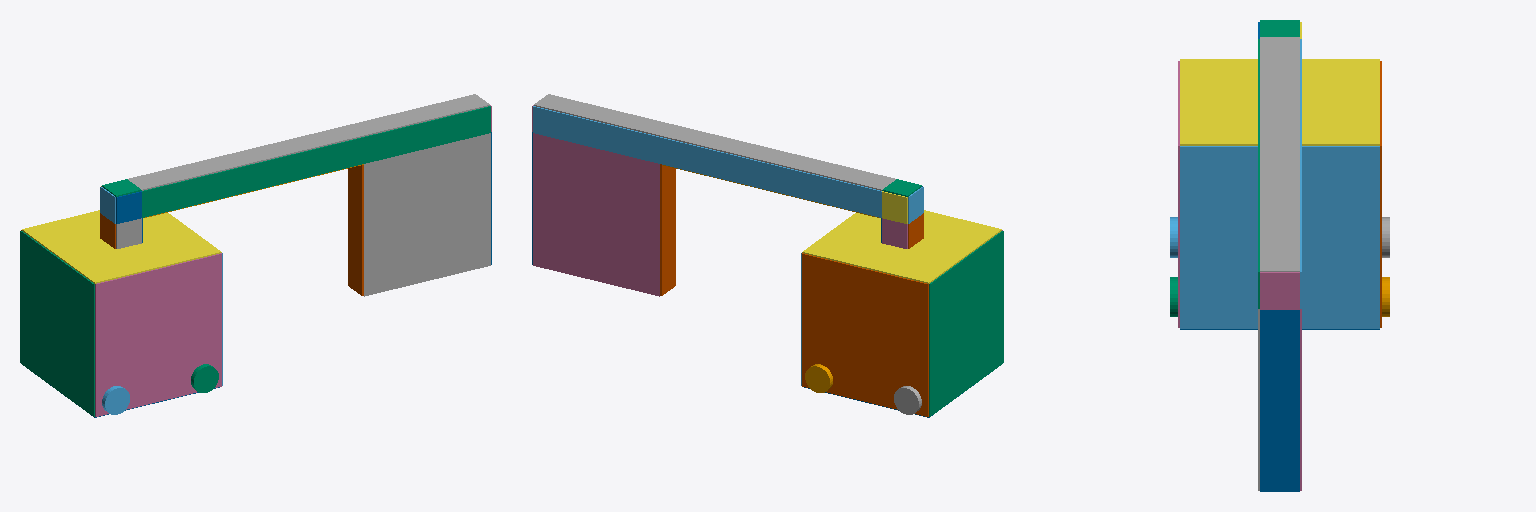
--- Render facts (derived) ---
The picture shows the robot from 3 angles, left to right: view 1: azimuth 30°, elevation 25°; view 2: azimuth 150°, elevation 25°; view 3: azimuth 270°, elevation 25°; orthographic projection.
Robot: robot — 54 links, 53 joints (2 continuous, 51 fixed); root link body; default pose: all joints at 0.
Visible links, largest first — view 1: hand_sensor_0_right, body_sensor_0_right, body_sensor_0_stop, arm_sensor_0_right, body_sensor_0_top, arm_sensor_0_top, hand_sensor_0_stop, joint_2_sensor_0_right, joint_1_sensor_0_right, back_right_wheel, from_right_wheel; view 2: hand_sensor_0_left, body_sensor_0_left, body_sensor_0_stop, arm_sensor_0_left, body_sensor_0_top, arm_sensor_0_top, hand_sensor_0_stop, joint_2_sensor_0_left, joint_1_sensor_0_left, back_left_wheel, from_left_wheel; view 3: body_sensor_0_start, body_sensor_0_top, arm_sensor_0_top, hand_sensor_0_start, arm_sensor_0_start, joint_2_sensor_0_top, arm_sensor_0_left, arm_sensor_0_right, body_sensor_0_left, body_sensor_0_right.
Link boxes in pixels (left/top/right/bottom): hand_sensor_0_right: left=364, top=133, right=490, bottom=296; body_sensor_0_right: left=95, top=253, right=221, bottom=416; body_sensor_0_stop: left=20, top=231, right=94, bottom=416; arm_sensor_0_right: left=142, top=106, right=490, bottom=217; body_sensor_0_top: left=22, top=210, right=221, bottom=283; arm_sensor_0_top: left=128, top=94, right=489, bottom=190; hand_sensor_0_stop: left=348, top=165, right=363, bottom=295; joint_2_sensor_0_right: left=116, top=191, right=141, bottom=223; joint_1_sensor_0_right: left=116, top=218, right=141, bottom=248; back_right_wheel: left=102, top=386, right=129, bottom=414; from_right_wheel: left=191, top=364, right=218, bottom=392; hand_sensor_0_left: left=533, top=133, right=659, bottom=296; body_sensor_0_left: left=802, top=253, right=928, bottom=416; body_sensor_0_stop: left=929, top=231, right=1003, bottom=416; arm_sensor_0_left: left=533, top=106, right=881, bottom=217; body_sensor_0_top: left=802, top=210, right=1001, bottom=283; arm_sensor_0_top: left=534, top=94, right=895, bottom=190; hand_sensor_0_stop: left=660, top=164, right=675, bottom=295; joint_2_sensor_0_left: left=882, top=191, right=907, bottom=223; joint_1_sensor_0_left: left=882, top=218, right=907, bottom=248; back_left_wheel: left=894, top=386, right=921, bottom=414; from_left_wheel: left=805, top=364, right=832, bottom=392; body_sensor_0_start: left=1180, top=146, right=1379, bottom=328; body_sensor_0_top: left=1180, top=59, right=1379, bottom=145; arm_sensor_0_top: left=1260, top=37, right=1299, bottom=271; hand_sensor_0_start: left=1260, top=310, right=1299, bottom=491; arm_sensor_0_start: left=1260, top=272, right=1299, bottom=309; joint_2_sensor_0_top: left=1260, top=20, right=1299, bottom=36; arm_sensor_0_left: left=1300, top=39, right=1301, bottom=308; arm_sensor_0_right: left=1258, top=39, right=1259, bottom=308; body_sensor_0_left: left=1380, top=61, right=1381, bottom=327; body_sensor_0_right: left=1178, top=61, right=1179, bottom=327.
Bounding box of the posed robot: 3.37 × 1.1 × 1.42 m (x, y, z).
Geometry: primitives only (box / cylinder / sphere), no mesh files.

URDF robot description (robot):
<?xml version="1.0"?>
    <robot name="robot">


    <!-- body -->
    <link name="body">
        <inertial>
            <origin xyz="0 0 0" rpy="0 0 0"/>
            <mass value="100"/>
            <inertia ixx="15" ixy="0" ixz="0" iyy="15" iyz="0" izz="15"/>
        </inertial>
        <visual>
            <origin xyz="0 0 0" rpy="0 0 0"/>
            <geometry>
                <box size="1 1 1"/>
            </geometry>
        </visual>
        <collision>
            <origin xyz="0 0 0" rpy="0 0 0"/>
            <geometry>
                <box size="1 1 1"/>
            </geometry>
        </collision>
    </link>


    <!-- body_sensor_0_start -->
    <link name="body_sensor_0_start">
        <inertial>
            <origin xyz="0 0 0" rpy="0 0 0"/>
            <mass value="0"/>
            <inertia ixx="0" ixy="0" ixz="0" iyy="0" iyz="0" izz="0"/>
        </inertial>
        <visual>
            <origin xyz="0 0 0" rpy="0 0 0"/>
            <geometry>
                <box size="0.02 1 1"/>
            </geometry>
        </visual>
        <collision>
            <origin xyz="0 0 0" rpy="0 0 0"/>
            <geometry>
                <box size="0.02 1 1"/>
            </geometry>
        </collision>
    </link>
    <!-- Joint: body, body_sensor_0_start -->
    <joint name="body_body_sensor_0_start_joint" type="fixed">
        <parent link="body"/>
        <child link="body_sensor_0_start"/>
        <origin xyz="0.5 0 0"
                rpy="0 0 0"/>
        <axis xyz="0 0 1"/>
        
    </joint>


    <!-- body_sensor_0_stop -->
    <link name="body_sensor_0_stop">
        <inertial>
            <origin xyz="0 0 0" rpy="0 0 0"/>
            <mass value="0"/>
            <inertia ixx="0" ixy="0" ixz="0" iyy="0" iyz="0" izz="0"/>
        </inertial>
        <visual>
            <origin xyz="0 0 0" rpy="0 0 0"/>
            <geometry>
                <box size="0.02 1 1"/>
            </geometry>
        </visual>
        <collision>
            <origin xyz="0 0 0" rpy="0 0 0"/>
            <geometry>
                <box size="0.02 1 1"/>
            </geometry>
        </collision>
    </link>
    <!-- Joint: body, body_sensor_0_stop -->
    <joint name="body_body_sensor_0_stop_joint" type="fixed">
        <parent link="body"/>
        <child link="body_sensor_0_stop"/>
        <origin xyz="-0.5 0 0"
                rpy="0 0 0"/>
        <axis xyz="0 0 1"/>
        
    </joint>


    <!-- body_sensor_0_top -->
    <link name="body_sensor_0_top">
        <inertial>
            <origin xyz="0 0 0" rpy="0 0 0"/>
            <mass value="0"/>
            <inertia ixx="0" ixy="0" ixz="0" iyy="0" iyz="0" izz="0"/>
        </inertial>
        <visual>
            <origin xyz="0 0 0" rpy="0 0 0"/>
            <geometry>
                <box size="1.0 1 0.02"/>
            </geometry>
        </visual>
        <collision>
            <origin xyz="0 0 0" rpy="0 0 0"/>
            <geometry>
                <box size="1.0 1 0.02"/>
            </geometry>
        </collision>
    </link>
    <!-- Joint: body, body_sensor_0_top -->
    <joint name="body_body_sensor_0_top_joint" type="fixed">
        <parent link="body"/>
        <child link="body_sensor_0_top"/>
        <origin xyz="0 0 0.5"
                rpy="0 0 0"/>
        <axis xyz="0 0 1"/>
        
    </joint>


    <!-- body_sensor_0_bottom -->
    <link name="body_sensor_0_bottom">
        <inertial>
            <origin xyz="0 0 0" rpy="0 0 0"/>
            <mass value="0"/>
            <inertia ixx="0" ixy="0" ixz="0" iyy="0" iyz="0" izz="0"/>
        </inertial>
        <visual>
            <origin xyz="0 0 0" rpy="0 0 0"/>
            <geometry>
                <box size="1.0 1 0.02"/>
            </geometry>
        </visual>
        <collision>
            <origin xyz="0 0 0" rpy="0 0 0"/>
            <geometry>
                <box size="1.0 1 0.02"/>
            </geometry>
        </collision>
    </link>
    <!-- Joint: body, body_sensor_0_bottom -->
    <joint name="body_body_sensor_0_bottom_joint" type="fixed">
        <parent link="body"/>
        <child link="body_sensor_0_bottom"/>
        <origin xyz="0 0 -0.5"
                rpy="0 0 0"/>
        <axis xyz="0 0 1"/>
        
    </joint>


    <!-- body_sensor_0_left -->
    <link name="body_sensor_0_left">
        <inertial>
            <origin xyz="0 0 0" rpy="0 0 0"/>
            <mass value="0"/>
            <inertia ixx="0" ixy="0" ixz="0" iyy="0" iyz="0" izz="0"/>
        </inertial>
        <visual>
            <origin xyz="0 0 0" rpy="0 0 0"/>
            <geometry>
                <box size="1.0 0.02 1"/>
            </geometry>
        </visual>
        <collision>
            <origin xyz="0 0 0" rpy="0 0 0"/>
            <geometry>
                <box size="1.0 0.02 1"/>
            </geometry>
        </collision>
    </link>
    <!-- Joint: body, body_sensor_0_left -->
    <joint name="body_body_sensor_0_left_joint" type="fixed">
        <parent link="body"/>
        <child link="body_sensor_0_left"/>
        <origin xyz="0 0.5 0"
                rpy="0 0 0"/>
        <axis xyz="0 0 1"/>
        
    </joint>


    <!-- body_sensor_0_right -->
    <link name="body_sensor_0_right">
        <inertial>
            <origin xyz="0 0 0" rpy="0 0 0"/>
            <mass value="0"/>
            <inertia ixx="0" ixy="0" ixz="0" iyy="0" iyz="0" izz="0"/>
        </inertial>
        <visual>
            <origin xyz="0 0 0" rpy="0 0 0"/>
            <geometry>
                <box size="1.0 0.02 1"/>
            </geometry>
        </visual>
        <collision>
            <origin xyz="0 0 0" rpy="0 0 0"/>
            <geometry>
                <box size="1.0 0.02 1"/>
            </geometry>
        </collision>
    </link>
    <!-- Joint: body, body_sensor_0_right -->
    <joint name="body_body_sensor_0_right_joint" type="fixed">
        <parent link="body"/>
        <child link="body_sensor_0_right"/>
        <origin xyz="0 -0.5 0"
                rpy="0 0 0"/>
        <axis xyz="0 0 1"/>
        
    </joint>


    <!-- back_left_wheel -->
    <link name="back_left_wheel">
        <inertial>
            <origin xyz="0 0 0" rpy="0 0 0"/>
            <mass value="0.1"/>
            <inertia ixx="0.0005" ixy="0" ixz="0" iyy="0.0005" iyz="0" izz="0.0005"/>
        </inertial>
        <visual>
            <origin xyz="0 0 0" rpy="0 0 0"/>
            <geometry>
                <cylinder radius="0.1" length="0.1"/>
            </geometry>
        </visual>
        <collision>
            <origin xyz="0 0 0" rpy="0 0 0"/>
            <geometry>
                <cylinder radius="0.1" length="0.1"/>
            </geometry>
        </collision>
    </link>
    <!-- Joint: body, back_left_wheel -->
    <joint name="body_back_left_wheel_joint" type="fixed">
        <parent link="body"/>
        <child link="back_left_wheel"/>
        <origin xyz="-0.35 0.5 -0.4"
                rpy="1.5708 0 0"/>
        <axis xyz="1 0 0"/>
        
    </joint>


    <!-- from_left_wheel -->
    <link name="from_left_wheel">
        <inertial>
            <origin xyz="0 0 0" rpy="0 0 0"/>
            <mass value="0.1"/>
            <inertia ixx="0.0005" ixy="0" ixz="0" iyy="0.0005" iyz="0" izz="0.0005"/>
        </inertial>
        <visual>
            <origin xyz="0 0 0" rpy="0 0 0"/>
            <geometry>
                <cylinder radius="0.1" length="0.1"/>
            </geometry>
        </visual>
        <collision>
            <origin xyz="0 0 0" rpy="0 0 0"/>
            <geometry>
                <cylinder radius="0.1" length="0.1"/>
            </geometry>
        </collision>
    </link>
    <!-- Joint: body, from_left_wheel -->
    <joint name="body_from_left_wheel_joint" type="fixed">
        <parent link="body"/>
        <child link="from_left_wheel"/>
        <origin xyz="0.35 0.5 -0.4"
                rpy="1.5708 0 0"/>
        <axis xyz="1 0 0"/>
        
    </joint>


    <!-- back_right_wheel -->
    <link name="back_right_wheel">
        <inertial>
            <origin xyz="0 0 0" rpy="0 0 0"/>
            <mass value="0.1"/>
            <inertia ixx="0.0005" ixy="0" ixz="0" iyy="0.0005" iyz="0" izz="0.0005"/>
        </inertial>
        <visual>
            <origin xyz="0 0 0" rpy="0 0 0"/>
            <geometry>
                <cylinder radius="0.1" length="0.1"/>
            </geometry>
        </visual>
        <collision>
            <origin xyz="0 0 0" rpy="0 0 0"/>
            <geometry>
                <cylinder radius="0.1" length="0.1"/>
            </geometry>
        </collision>
    </link>
    <!-- Joint: body, back_right_wheel -->
    <joint name="body_back_right_wheel_joint" type="fixed">
        <parent link="body"/>
        <child link="back_right_wheel"/>
        <origin xyz="-0.35 -0.5 -0.4"
                rpy="1.5708 0 0"/>
        <axis xyz="1 0 0"/>
        
    </joint>


    <!-- from_right_wheel -->
    <link name="from_right_wheel">
        <inertial>
            <origin xyz="0 0 0" rpy="0 0 0"/>
            <mass value="0.1"/>
            <inertia ixx="0.0005" ixy="0" ixz="0" iyy="0.0005" iyz="0" izz="0.0005"/>
        </inertial>
        <visual>
            <origin xyz="0 0 0" rpy="0 0 0"/>
            <geometry>
                <cylinder radius="0.1" length="0.1"/>
            </geometry>
        </visual>
        <collision>
            <origin xyz="0 0 0" rpy="0 0 0"/>
            <geometry>
                <cylinder radius="0.1" length="0.1"/>
            </geometry>
        </collision>
    </link>
    <!-- Joint: body, from_right_wheel -->
    <joint name="body_from_right_wheel_joint" type="fixed">
        <parent link="body"/>
        <child link="from_right_wheel"/>
        <origin xyz="0.35 -0.5 -0.4"
                rpy="1.5708 0 0"/>
        <axis xyz="1 0 0"/>
        
    </joint>


    <!-- joint_1 -->
    <link name="joint_1">
        <inertial>
            <origin xyz="0 0 0" rpy="0 0 0"/>
            <mass value="2"/>
            <inertia ixx="0.01" ixy="0" ixz="0" iyy="0.01" iyz="0" izz="0.01"/>
        </inertial>
        <visual>
            <origin xyz="0 0 0" rpy="0 0 0"/>
            <geometry>
                <box size="0.2 0.2 0.2"/>
            </geometry>
        </visual>
        <collision>
            <origin xyz="0 0 0" rpy="0 0 0"/>
            <geometry>
                <box size="0.2 0.2 0.2"/>
            </geometry>
        </collision>
    </link>


    <!-- joint_1_sensor_0_start -->
    <link name="joint_1_sensor_0_start">
        <inertial>
            <origin xyz="0 0 0" rpy="0 0 0"/>
            <mass value="0"/>
            <inertia ixx="0" ixy="0" ixz="0" iyy="0" iyz="0" izz="0"/>
        </inertial>
        <visual>
            <origin xyz="0 0 0" rpy="0 0 0"/>
            <geometry>
                <box size="0.02 0.2 0.2"/>
            </geometry>
        </visual>
        <collision>
            <origin xyz="0 0 0" rpy="0 0 0"/>
            <geometry>
                <box size="0.02 0.2 0.2"/>
            </geometry>
        </collision>
    </link>
    <!-- Joint: joint_1, joint_1_sensor_0_start -->
    <joint name="joint_1_joint_1_sensor_0_start_joint" type="fixed">
        <parent link="joint_1"/>
        <child link="joint_1_sensor_0_start"/>
        <origin xyz="0.1 0 0"
                rpy="0 0 0"/>
        <axis xyz="0 0 1"/>
        
    </joint>


    <!-- joint_1_sensor_0_stop -->
    <link name="joint_1_sensor_0_stop">
        <inertial>
            <origin xyz="0 0 0" rpy="0 0 0"/>
            <mass value="0"/>
            <inertia ixx="0" ixy="0" ixz="0" iyy="0" iyz="0" izz="0"/>
        </inertial>
        <visual>
            <origin xyz="0 0 0" rpy="0 0 0"/>
            <geometry>
                <box size="0.02 0.2 0.2"/>
            </geometry>
        </visual>
        <collision>
            <origin xyz="0 0 0" rpy="0 0 0"/>
            <geometry>
                <box size="0.02 0.2 0.2"/>
            </geometry>
        </collision>
    </link>
    <!-- Joint: joint_1, joint_1_sensor_0_stop -->
    <joint name="joint_1_joint_1_sensor_0_stop_joint" type="fixed">
        <parent link="joint_1"/>
        <child link="joint_1_sensor_0_stop"/>
        <origin xyz="-0.1 0 0"
                rpy="0 0 0"/>
        <axis xyz="0 0 1"/>
        
    </joint>


    <!-- joint_1_sensor_0_left -->
    <link name="joint_1_sensor_0_left">
        <inertial>
            <origin xyz="0 0 0" rpy="0 0 0"/>
            <mass value="0"/>
            <inertia ixx="0" ixy="0" ixz="0" iyy="0" iyz="0" izz="0"/>
        </inertial>
        <visual>
            <origin xyz="0 0 0" rpy="0 0 0"/>
            <geometry>
                <box size="0.2 0.02 0.2"/>
            </geometry>
        </visual>
        <collision>
            <origin xyz="0 0 0" rpy="0 0 0"/>
            <geometry>
                <box size="0.2 0.02 0.2"/>
            </geometry>
        </collision>
    </link>
    <!-- Joint: joint_1, joint_1_sensor_0_left -->
    <joint name="joint_1_joint_1_sensor_0_left_joint" type="fixed">
        <parent link="joint_1"/>
        <child link="joint_1_sensor_0_left"/>
        <origin xyz="0 0.1 0"
                rpy="0 0 0"/>
        <axis xyz="0 0 1"/>
        
    </joint>


    <!-- joint_1_sensor_0_right -->
    <link name="joint_1_sensor_0_right">
        <inertial>
            <origin xyz="0 0 0" rpy="0 0 0"/>
            <mass value="0"/>
            <inertia ixx="0" ixy="0" ixz="0" iyy="0" iyz="0" izz="0"/>
        </inertial>
        <visual>
            <origin xyz="0 0 0" rpy="0 0 0"/>
            <geometry>
                <box size="0.2 0.02 0.2"/>
            </geometry>
        </visual>
        <collision>
            <origin xyz="0 0 0" rpy="0 0 0"/>
            <geometry>
                <box size="0.2 0.02 0.2"/>
            </geometry>
        </collision>
    </link>
    <!-- Joint: joint_1, joint_1_sensor_0_right -->
    <joint name="joint_1_joint_1_sensor_0_right_joint" type="fixed">
        <parent link="joint_1"/>
        <child link="joint_1_sensor_0_right"/>
        <origin xyz="0 -0.1 0"
                rpy="0 0 0"/>
        <axis xyz="0 0 1"/>
        
    </joint>
    <!-- Joint: body, joint_1 -->
    <joint name="body_joint_1_joint" type="continuous">
        <parent link="body"/>
        <child link="joint_1"/>
        <origin xyz="0 0 0.6"
                rpy="0 0 0"/>
        <axis xyz="0 0 1"/>
        <limit lower="-0.7853981633974483" upper="0.7853981633974483" effort="999" velocity="999"/>
    </joint>


    <!-- joint_2 -->
    <link name="joint_2">
        <inertial>
            <origin xyz="0 0 0" rpy="0 0 0"/>
            <mass value="2"/>
            <inertia ixx="0.01" ixy="0" ixz="0" iyy="0.01" iyz="0" izz="0.01"/>
        </inertial>
        <visual>
            <origin xyz="0 0 0" rpy="0 0 0"/>
            <geometry>
                <box size="0.2 0.2 0.2"/>
            </geometry>
        </visual>
        <collision>
            <origin xyz="0 0 0" rpy="0 0 0"/>
            <geometry>
                <box size="0.2 0.2 0.2"/>
            </geometry>
        </collision>
    </link>


    <!-- joint_2_sensor_0_stop -->
    <link name="joint_2_sensor_0_stop">
        <inertial>
            <origin xyz="0 0 0" rpy="0 0 0"/>
            <mass value="0"/>
            <inertia ixx="0" ixy="0" ixz="0" iyy="0" iyz="0" izz="0"/>
        </inertial>
        <visual>
            <origin xyz="0 0 0" rpy="0 0 0"/>
            <geometry>
                <box size="0.02 0.2 0.2"/>
            </geometry>
        </visual>
        <collision>
            <origin xyz="0 0 0" rpy="0 0 0"/>
            <geometry>
                <box size="0.02 0.2 0.2"/>
            </geometry>
        </collision>
    </link>
    <!-- Joint: joint_2, joint_2_sensor_0_stop -->
    <joint name="joint_2_joint_2_sensor_0_stop_joint" type="fixed">
        <parent link="joint_2"/>
        <child link="joint_2_sensor_0_stop"/>
        <origin xyz="-0.1 0 0"
                rpy="0 0 0"/>
        <axis xyz="0 1 0"/>
        
    </joint>


    <!-- joint_2_sensor_0_top -->
    <link name="joint_2_sensor_0_top">
        <inertial>
            <origin xyz="0 0 0" rpy="0 0 0"/>
            <mass value="0"/>
            <inertia ixx="0" ixy="0" ixz="0" iyy="0" iyz="0" izz="0"/>
        </inertial>
        <visual>
            <origin xyz="0 0 0" rpy="0 0 0"/>
            <geometry>
                <box size="0.2 0.2 0.02"/>
            </geometry>
        </visual>
        <collision>
            <origin xyz="0 0 0" rpy="0 0 0"/>
            <geometry>
                <box size="0.2 0.2 0.02"/>
            </geometry>
        </collision>
    </link>
    <!-- Joint: joint_2, joint_2_sensor_0_top -->
    <joint name="joint_2_joint_2_sensor_0_top_joint" type="fixed">
        <parent link="joint_2"/>
        <child link="joint_2_sensor_0_top"/>
        <origin xyz="0 0 0.1"
                rpy="0 0 0"/>
        <axis xyz="0 1 0"/>
        
    </joint>


    <!-- joint_2_sensor_0_left -->
    <link name="joint_2_sensor_0_left">
        <inertial>
            <origin xyz="0 0 0" rpy="0 0 0"/>
            <mass value="0"/>
            <inertia ixx="0" ixy="0" ixz="0" iyy="0" iyz="0" izz="0"/>
        </inertial>
        <visual>
            <origin xyz="0 0 0" rpy="0 0 0"/>
            <geometry>
                <box size="0.2 0.02 0.2"/>
            </geometry>
        </visual>
        <collision>
            <origin xyz="0 0 0" rpy="0 0 0"/>
            <geometry>
                <box size="0.2 0.02 0.2"/>
            </geometry>
        </collision>
    </link>
    <!-- Joint: joint_2, joint_2_sensor_0_left -->
    <joint name="joint_2_joint_2_sensor_0_left_joint" type="fixed">
        <parent link="joint_2"/>
        <child link="joint_2_sensor_0_left"/>
        <origin xyz="0 0.1 0"
                rpy="0 0 0"/>
        <axis xyz="0 1 0"/>
        
    </joint>


    <!-- joint_2_sensor_0_right -->
    <link name="joint_2_sensor_0_right">
        <inertial>
            <origin xyz="0 0 0" rpy="0 0 0"/>
            <mass value="0"/>
            <inertia ixx="0" ixy="0" ixz="0" iyy="0" iyz="0" izz="0"/>
        </inertial>
        <visual>
            <origin xyz="0 0 0" rpy="0 0 0"/>
            <geometry>
                <box size="0.2 0.02 0.2"/>
            </geometry>
        </visual>
        <collision>
            <origin xyz="0 0 0" rpy="0 0 0"/>
            <geometry>
                <box size="0.2 0.02 0.2"/>
            </geometry>
        </collision>
    </link>
    <!-- Joint: joint_2, joint_2_sensor_0_right -->
    <joint name="joint_2_joint_2_sensor_0_right_joint" type="fixed">
        <parent link="joint_2"/>
        <child link="joint_2_sensor_0_right"/>
        <origin xyz="0 -0.1 0"
                rpy="0 0 0"/>
        <axis xyz="0 1 0"/>
        
    </joint>
    <!-- Joint: joint_1, joint_2 -->
    <joint name="joint_1_joint_2_joint" type="continuous">
        <parent link="joint_1"/>
        <child link="joint_2"/>
        <origin xyz="0 0 0.2"
                rpy="0 0 0"/>
        <axis xyz="0 1 0"/>
        <limit lower="-1.5707963267948966" upper="0" effort="999" velocity="999"/>
    </joint>


    <!-- arm -->
    <link name="arm">
        <inertial>
            <origin xyz="0 0 0" rpy="0 0 0"/>
            <mass value="2"/>
            <inertia ixx="0.01" ixy="0" ixz="0" iyy="1.25" iyz="0" izz="1.25"/>
        </inertial>
        <visual>
            <origin xyz="0 0 0" rpy="0 0 0"/>
            <geometry>
                <box size="2.75 0.2 0.2"/>
            </geometry>
        </visual>
        <collision>
            <origin xyz="0 0 0" rpy="0 0 0"/>
            <geometry>
                <box size="2.75 0.2 0.2"/>
            </geometry>
        </collision>
    </link>


    <!-- arm_sensor_0_start -->
    <link name="arm_sensor_0_start">
        <inertial>
            <origin xyz="0 0 0" rpy="0 0 0"/>
            <mass value="0"/>
            <inertia ixx="0" ixy="0" ixz="0" iyy="0" iyz="0" izz="0"/>
        </inertial>
        <visual>
            <origin xyz="0 0 0" rpy="0 0 0"/>
            <geometry>
                <box size="0.02 0.2 0.2"/>
            </geometry>
        </visual>
        <collision>
            <origin xyz="0 0 0" rpy="0 0 0"/>
            <geometry>
                <box size="0.02 0.2 0.2"/>
            </geometry>
        </collision>
    </link>
    <!-- Joint: arm, arm_sensor_0_start -->
    <joint name="arm_arm_sensor_0_start_joint" type="fixed">
        <parent link="arm"/>
        <child link="arm_sensor_0_start"/>
        <origin xyz="1.375 0 0"
                rpy="0 0 0"/>
        <axis xyz="0 1 0"/>
        
    </joint>


    <!-- arm_sensor_0_top -->
    <link name="arm_sensor_0_top">
        <inertial>
            <origin xyz="0 0 0" rpy="0 0 0"/>
            <mass value="0"/>
            <inertia ixx="0" ixy="0" ixz="0" iyy="0" iyz="0" izz="0"/>
        </inertial>
        <visual>
            <origin xyz="0 0 0" rpy="0 0 0"/>
            <geometry>
                <box size="2.75 0.2 0.02"/>
            </geometry>
        </visual>
        <collision>
            <origin xyz="0 0 0" rpy="0 0 0"/>
            <geometry>
                <box size="2.75 0.2 0.02"/>
            </geometry>
        </collision>
    </link>
    <!-- Joint: arm, arm_sensor_0_top -->
    <joint name="arm_arm_sensor_0_top_joint" type="fixed">
        <parent link="arm"/>
        <child link="arm_sensor_0_top"/>
        <origin xyz="0 0 0.1"
                rpy="0 0 0"/>
        <axis xyz="0 1 0"/>
        
    </joint>


    <!-- arm_sensor_0_bottom -->
    <link name="arm_sensor_0_bottom">
        <inertial>
            <origin xyz="0 0 0" rpy="0 0 0"/>
            <mass value="0"/>
            <inertia ixx="0" ixy="0" ixz="0" iyy="0" iyz="0" izz="0"/>
        </inertial>
        <visual>
            <origin xyz="0 0 0" rpy="0 0 0"/>
            <geometry>
                <box size="2.75 0.2 0.02"/>
            </geometry>
        </visual>
        <collision>
            <origin xyz="0 0 0" rpy="0 0 0"/>
            <geometry>
                <box size="2.75 0.2 0.02"/>
            </geometry>
        </collision>
    </link>
    <!-- Joint: arm, arm_sensor_0_bottom -->
    <joint name="arm_arm_sensor_0_bottom_joint" type="fixed">
        <parent link="arm"/>
        <child link="arm_sensor_0_bottom"/>
        <origin xyz="0 0 -0.1"
                rpy="0 0 0"/>
        <axis xyz="0 1 0"/>
        
    </joint>


    <!-- arm_sensor_0_left -->
    <link name="arm_sensor_0_left">
        <inertial>
            <origin xyz="0 0 0" rpy="0 0 0"/>
            <mass value="0"/>
            <inertia ixx="0" ixy="0" ixz="0" iyy="0" iyz="0" izz="0"/>
        </inertial>
        <visual>
            <origin xyz="0 0 0" rpy="0 0 0"/>
            <geometry>
                <box size="2.75 0.02 0.2"/>
            </geometry>
        </visual>
        <collision>
            <origin xyz="0 0 0" rpy="0 0 0"/>
            <geometry>
                <box size="2.75 0.02 0.2"/>
            </geometry>
        </collision>
    </link>
    <!-- Joint: arm, arm_sensor_0_left -->
    <joint name="arm_arm_sensor_0_left_joint" type="fixed">
        <parent link="arm"/>
        <child link="arm_sensor_0_left"/>
        <origin xyz="0 0.1 0"
                rpy="0 0 0"/>
        <axis xyz="0 1 0"/>
        
    </joint>


    <!-- arm_sensor_0_right -->
    <link name="arm_sensor_0_right">
        <inertial>
            <origin xyz="0 0 0" rpy="0 0 0"/>
            <mass value="0"/>
            <inertia ixx="0" ixy="0" ixz="0" iyy="0" iyz="0" izz="0"/>
        </inertial>
        <visual>
            <origin xyz="0 0 0" rpy="0 0 0"/>
            <geometry>
                <box size="2.75 0.02 0.2"/>
            </geometry>
        </visual>
        <collision>
            <origin xyz="0 0 0" rpy="0 0 0"/>
            <geometry>
                <box size="2.75 0.02 0.2"/>
            </geometry>
        </collision>
    </link>
    <!-- Joint: arm, arm_sensor_0_right -->
    <joint name="arm_arm_sensor_0_right_joint" type="fixed">
        <parent link="arm"/>
        <child link="arm_sensor_0_right"/>
        <origin xyz="0 -0.1 0"
                rpy="0 0 0"/>
        <axis xyz="0 1 0"/>
        
    </joint>
    <!-- Joint: joint_2, arm -->
    <joint name="joint_2_arm_joint" type="fixed">
        <parent link="joint_2"/>
        <child link="arm"/>
        <origin xyz="1.475 0 0"
                rpy="0 0 0"/>
        <axis xyz="0 1 0"/>
        
    </joint>


    <!-- hand -->
    <link name="hand">
        <inertial>
            <origin xyz="0 0 0" rpy="0 0 0"/>
            <mass value="2"/>
            <inertia ixx="0.05" ixy="0.05" ixz="0.05" iyy="0.05" iyz="0.05" izz="0.05"/>
        </inertial>
        <visual>
            <origin xyz="0 0 0" rpy="0 0 0"/>
            <geometry>
                <box size="1 0.2 1"/>
            </geometry>
        </visual>
        <collision>
            <origin xyz="0 0 0" rpy="0 0 0"/>
            <geometry>
                <box size="1 0.2 1"/>
            </geometry>
        </collision>
    </link>


    <!-- hand_sensor_0_start -->
    <link name="hand_sensor_0_start">
        <inertial>
            <origin xyz="0 0 0" rpy="0 0 0"/>
            <mass value="0"/>
            <inertia ixx="0" ixy="0" ixz="0" iyy="0" iyz="0" izz="0"/>
        </inertial>
        <visual>
            <origin xyz="0 0 0" rpy="0 0 0"/>
            <geometry>
                <box size="0.02 0.2 1"/>
            </geometry>
        </visual>
        <collision>
            <origin xyz="0 0 0" rpy="0 0 0"/>
            <geometry>
                <box size="0.02 0.2 1"/>
            </geometry>
        </collision>
    </link>
    <!-- Joint: hand, hand_sensor_0_start -->
    <joint name="hand_hand_sensor_0_start_joint" type="fixed">
        <parent link="hand"/>
        <child link="hand_sensor_0_start"/>
        <origin xyz="0.5 0 0"
                rpy="0 0 0"/>
        <axis xyz="0 1 0"/>
        
    </joint>


    <!-- hand_sensor_0_stop -->
    <link name="hand_sensor_0_stop">
        <inertial>
            <origin xyz="0 0 0" rpy="0 0 0"/>
            <mass value="0"/>
            <inertia ixx="0" ixy="0" ixz="0" iyy="0" iyz="0" izz="0"/>
        </inertial>
        <visual>
            <origin xyz="0 0 0" rpy="0 0 0"/>
            <geometry>
                <box size="0.02 0.2 1"/>
            </geometry>
        </visual>
        <collision>
            <origin xyz="0 0 0" rpy="0 0 0"/>
            <geometry>
                <box size="0.02 0.2 1"/>
            </geometry>
        </collision>
    </link>
    <!-- Joint: hand, hand_sensor_0_stop -->
    <joint name="hand_hand_sensor_0_stop_joint" type="fixed">
        <parent link="hand"/>
        <child link="hand_sensor_0_stop"/>
        <origin xyz="-0.5 0 0"
                rpy="0 0 0"/>
        <axis xyz="0 1 0"/>
        
    </joint>


    <!-- hand_sensor_0_left -->
    <link name="hand_sensor_0_left">
        <inertial>
            <origin xyz="0 0 0" rpy="0 0 0"/>
            <mass value="0"/>
            <inertia ixx="0" ixy="0" ixz="0" iyy="0" iyz="0" izz="0"/>
        </inertial>
        <visual>
            <origin xyz="0 0 0" rpy="0 0 0"/>
            <geometry>
                <box size="1.0 0.02 1"/>
            </geometry>
        </visual>
        <collision>
            <origin xyz="0 0 0" rpy="0 0 0"/>
            <geometry>
                <box size="1.0 0.02 1"/>
            </geometry>
        </collision>
    </link>
    <!-- Joint: hand, hand_sensor_0_left -->
    <joint name="hand_hand_sensor_0_left_joint" type="fixed">
        <parent link="hand"/>
        <child link="hand_sensor_0_left"/>
        <origin xyz="0 0.1 0"
                rpy="0 0 0"/>
        <axis xyz="0 1 0"/>
        
    </joint>


    <!-- hand_sensor_0_right -->
    <link name="hand_sensor_0_right">
        <inertial>
            <origin xyz="0 0 0" rpy="0 0 0"/>
            <mass value="0"/>
            <inertia ixx="0" ixy="0" ixz="0" iyy="0" iyz="0" izz="0"/>
        </inertial>
        <visual>
            <origin xyz="0 0 0" rpy="0 0 0"/>
            <geometry>
                <box size="1.0 0.02 1"/>
            </geometry>
        </visual>
        <collision>
            <origin xyz="0 0 0" rpy="0 0 0"/>
            <geometry>
                <box size="1.0 0.02 1"/>
            </geometry>
        </collision>
    </link>
    <!-- Joint: hand, hand_sensor_0_right -->
    <joint name="hand_hand_sensor_0_right_joint" type="fixed">
        <parent link="hand"/>
        <child link="hand_sensor_0_right"/>
        <origin xyz="0 -0.1 0"
                rpy="0 0 0"/>
        <axis xyz="0 1 0"/>
        
    </joint>
    <!-- Joint: arm, hand -->
    <joint name="arm_hand_joint" type="fixed">
        <parent link="arm"/>
        <child link="hand"/>
        <origin xyz="0.875 0 -0.6"
                rpy="0 0 0"/>
        <axis xyz="0 1 0"/>
        
    </joint>


    <!-- body_face_front_0 -->
    <link name="body_face_front_0">
        <inertial>
            <origin xyz="0 0 0" rpy="0 0 0"/>
            <mass value="0"/>
            <inertia ixx="0.05" ixy="0.05" ixz="0.05" iyy="0.05" iyz="0.05" izz="0.05"/>
        </inertial>
        <visual>
            <origin xyz="0 0 0" rpy="0 0 0"/>
            <geometry>
                <box size="0.002 0.1111111111111111 0.1111111111111111"/>
            </geometry>
        </visual>
        <collision>
            <origin xyz="0 0 0" rpy="0 0 0"/>
            <geometry>
                <box size="0.002 0.1111111111111111 0.1111111111111111"/>
            </geometry>
        </collision>
    </link>
    <!-- Joint: body, body_face_front_0 -->
    <joint name="body_body_face_front_0_joint" type="fixed">
        <parent link="body"/>
        <child link="body_face_front_0"/>
        <origin xyz="0.501 -0.33333333333333337 0.11111111111111116"
                rpy="0 0 0"/>
        <axis xyz="0 0 1"/>
        
    </joint>


    <!-- body_face_front_1 -->
    <link name="body_face_front_1">
        <inertial>
            <origin xyz="0 0 0" rpy="0 0 0"/>
            <mass value="0"/>
            <inertia ixx="0.05" ixy="0.05" ixz="0.05" iyy="0.05" iyz="0.05" izz="0.05"/>
        </inertial>
        <visual>
            <origin xyz="0 0 0" rpy="0 0 0"/>
            <geometry>
                <box size="0.002 0.1111111111111111 0.1111111111111111"/>
            </geometry>
        </visual>
        <collision>
            <origin xyz="0 0 0" rpy="0 0 0"/>
            <geometry>
                <box size="0.002 0.1111111111111111 0.1111111111111111"/>
            </geometry>
        </collision>
    </link>
    <!-- Joint: body, body_face_front_1 -->
    <joint name="body_body_face_front_1_joint" type="fixed">
        <parent link="body"/>
        <child link="body_face_front_1"/>
        <origin xyz="0.501 -0.2222222222222222 0.2222222222222222"
                rpy="0 0 0"/>
        <axis xyz="0 0 1"/>
        
    </joint>


    <!-- body_face_front_2 -->
    <link name="body_face_front_2">
        <inertial>
            <origin xyz="0 0 0" rpy="0 0 0"/>
            <mass value="0"/>
            <inertia ixx="0.05" ixy="0.05" ixz="0.05" iyy="0.05" iyz="0.05" izz="0.05"/>
        </inertial>
        <visual>
            <origin xyz="0 0 0" rpy="0 0 0"/>
            <geometry>
                <box size="0.002 0.1111111111111111 0.1111111111111111"/>
            </geometry>
        </visual>
        <collision>
            <origin xyz="0 0 0" rpy="0 0 0"/>
            <geometry>
                <box size="0.002 0.1111111111111111 0.1111111111111111"/>
            </geometry>
        </collision>
    </link>
    <!-- Joint: body, body_face_front_2 -->
    <joint name="body_body_face_front_2_joint" type="fixed">
        <parent link="body"/>
        <child link="body_face_front_2"/>
        <origin xyz="0.501 -0.1111111111111111 0.11111111111111116"
                rpy="0 0 0"/>
        <axis xyz="0 0 1"/>
        
    </joint>


    <!-- body_face_front_3 -->
    <link name="body_face_front_3">
        <inertial>
            <origin xyz="0 0 0" rpy="0 0 0"/>
            <mass value="0"/>
            <inertia ixx="0.05" ixy="0.05" ixz="0.05" iyy="0.05" iyz="0.05" izz="0.05"/>
        </inertial>
        <visual>
            <origin xyz="0 0 0" rpy="0 0 0"/>
            <geometry>
                <box size="0.002 0.1111111111111111 0.1111111111111111"/>
            </geometry>
        </visual>
        <collision>
            <origin xyz="0 0 0" rpy="0 0 0"/>
            <geometry>
                <box size="0.002 0.1111111111111111 0.1111111111111111"/>
            </geometry>
        </collision>
    </link>
    <!-- Joint: body, body_face_front_3 -->
    <joint name="body_body_face_front_3_joint" type="fixed">
        <parent link="body"/>
        <child link="body_face_front_3"/>
        <origin xyz="0.501 -0.1111111111111111 -0.2222222222222222"
                rpy="0 0 0"/>
        <axis xyz="0 0 1"/>
        
    </joint>


    <!-- body_face_front_4 -->
    <link name="body_face_front_4">
        <inertial>
            <origin xyz="0 0 0" rpy="0 0 0"/>
            <mass value="0"/>
            <inertia ixx="0.05" ixy="0.05" ixz="0.05" iyy="0.05" iyz="0.05" izz="0.05"/>
        </inertial>
        <visual>
            <origin xyz="0 0 0" rpy="0 0 0"/>
            <geometry>
                <box size="0.002 0.1111111111111111 0.1111111111111111"/>
            </geometry>
        </visual>
        <collision>
            <origin xyz="0 0 0" rpy="0 0 0"/>
            <geometry>
                <box size="0.002 0.1111111111111111 0.1111111111111111"/>
            </geometry>
        </collision>
    </link>
    <!-- Joint: body, body_face_front_4 -->
    <joint name="body_body_face_front_4_joint" type="fixed">
        <parent link="body"/>
        <child link="body_face_front_4"/>
        <origin xyz="0.501 0.0 -0.2222222222222222"
                rpy="0 0 0"/>
        <axis xyz="0 0 1"/>
        
    </joint>


    <!-- body_face_front_5 -->
    <link name="body_face_front_5">
        <inertial>
            <origin xyz="0 0 0" rpy="0 0 0"/>
            <mass value="0"/>
            <inertia ixx="0.05" ixy="0.05" ixz="0.05" iyy="0.05" iyz="0.05" izz="0.05"/>
        </inertial>
        <visual>
            <origin xyz="0 0 0" rpy="0 0 0"/>
            <geometry>
                <box size="0.002 0.1111111111111111 0.1111111111111111"/>
            </geometry>
        </visual>
        <collision>
            <origin xyz="0 0 0" rpy="0 0 0"/>
            <geometry>
                <box size="0.002 0.1111111111111111 0.1111111111111111"/>
            </geometry>
        </collision>
    </link>
    <!-- Joint: body, body_face_front_5 -->
    <joint name="body_body_face_front_5_joint" type="fixed">
        <parent link="body"/>
        <child link="body_face_front_5"/>
        <origin xyz="0.501 0.11111111111111116 0.11111111111111116"
                rpy="0 0 0"/>
        <axis xyz="0 0 1"/>
        
    </joint>


    <!-- body_face_front_6 -->
    <link name="body_face_front_6">
        <inertial>
            <origin xyz="0 0 0" rpy="0 0 0"/>
            <mass value="0"/>
            <inertia ixx="0.05" ixy="0.05" ixz="0.05" iyy="0.05" iyz="0.05" izz="0.05"/>
        </inertial>
        <visual>
            <origin xyz="0 0 0" rpy="0 0 0"/>
            <geometry>
                <box size="0.002 0.1111111111111111 0.1111111111111111"/>
            </geometry>
        </visual>
        <collision>
            <origin xyz="0 0 0" rpy="0 0 0"/>
            <geometry>
                <box size="0.002 0.1111111111111111 0.1111111111111111"/>
            </geometry>
        </collision>
    </link>
    <!-- Joint: body, body_face_front_6 -->
    <joint name="body_body_face_front_6_joint" type="fixed">
        <parent link="body"/>
        <child link="body_face_front_6"/>
        <origin xyz="0.501 0.11111111111111116 -0.2222222222222222"
                rpy="0 0 0"/>
        <axis xyz="0 0 1"/>
        
    </joint>


    <!-- body_face_front_7 -->
    <link name="body_face_front_7">
        <inertial>
            <origin xyz="0 0 0" rpy="0 0 0"/>
            <mass value="0"/>
            <inertia ixx="0.05" ixy="0.05" ixz="0.05" iyy="0.05" iyz="0.05" izz="0.05"/>
        </inertial>
        <visual>
            <origin xyz="0 0 0" rpy="0 0 0"/>
            <geometry>
                <box size="0.002 0.1111111111111111 0.1111111111111111"/>
            </geometry>
        </visual>
        <collision>
            <origin xyz="0 0 0" rpy="0 0 0"/>
            <geometry>
                <box size="0.002 0.1111111111111111 0.1111111111111111"/>
            </geometry>
        </collision>
    </link>
    <!-- Joint: body, body_face_front_7 -->
    <joint name="body_body_face_front_7_joint" type="fixed">
        <parent link="body"/>
        <child link="body_face_front_7"/>
        <origin xyz="0.501 0.2222222222222222 0.2222222222222222"
                rpy="0 0 0"/>
        <axis xyz="0 0 1"/>
        
    </joint>


    <!-- body_face_front_8 -->
    <link name="body_face_front_8">
        <inertial>
            <origin xyz="0 0 0" rpy="0 0 0"/>
            <mass value="0"/>
            <inertia ixx="0.05" ixy="0.05" ixz="0.05" iyy="0.05" iyz="0.05" izz="0.05"/>
        </inertial>
        <visual>
            <origin xyz="0 0 0" rpy="0 0 0"/>
            <geometry>
                <box size="0.002 0.1111111111111111 0.1111111111111111"/>
            </geometry>
        </visual>
        <collision>
            <origin xyz="0 0 0" rpy="0 0 0"/>
            <geometry>
                <box size="0.002 0.1111111111111111 0.1111111111111111"/>
            </geometry>
        </collision>
    </link>
    <!-- Joint: body, body_face_front_8 -->
    <joint name="body_body_face_front_8_joint" type="fixed">
        <parent link="body"/>
        <child link="body_face_front_8"/>
        <origin xyz="0.501 0.33333333333333337 0.11111111111111116"
                rpy="0 0 0"/>
        <axis xyz="0 0 1"/>
        
    </joint>


    <!-- body_face_top_0 -->
    <link name="body_face_top_0">
        <inertial>
            <origin xyz="0 0 0" rpy="0 0 0"/>
            <mass value="0"/>
            <inertia ixx="0.05" ixy="0.05" ixz="0.05" iyy="0.05" iyz="0.05" izz="0.05"/>
        </inertial>
        <visual>
            <origin xyz="0 0 0" rpy="0 0 0"/>
            <geometry>
                <box size="0.1111111111111111 0.1111111111111111 0.002"/>
            </geometry>
        </visual>
        <collision>
            <origin xyz="0 0 0" rpy="0 0 0"/>
            <geometry>
                <box size="0.1111111111111111 0.1111111111111111 0.002"/>
            </geometry>
        </collision>
    </link>
    <!-- Joint: body, body_face_top_0 -->
    <joint name="body_body_face_top_0_joint" type="fixed">
        <parent link="body"/>
        <child link="body_face_top_0"/>
        <origin xyz="0.11111111111111116 -0.2222222222222222 0.501"
                rpy="0 0 0"/>
        <axis xyz="0 0 1"/>
        
    </joint>


    <!-- body_face_top_1 -->
    <link name="body_face_top_1">
        <inertial>
            <origin xyz="0 0 0" rpy="0 0 0"/>
            <mass value="0"/>
            <inertia ixx="0.05" ixy="0.05" ixz="0.05" iyy="0.05" iyz="0.05" izz="0.05"/>
        </inertial>
        <visual>
            <origin xyz="0 0 0" rpy="0 0 0"/>
            <geometry>
                <box size="0.1111111111111111 0.1111111111111111 0.002"/>
            </geometry>
        </visual>
        <collision>
            <origin xyz="0 0 0" rpy="0 0 0"/>
            <geometry>
                <box size="0.1111111111111111 0.1111111111111111 0.002"/>
            </geometry>
        </collision>
    </link>
    <!-- Joint: body, body_face_top_1 -->
    <joint name="body_body_face_top_1_joint" type="fixed">
        <parent link="body"/>
        <child link="body_face_top_1"/>
        <origin xyz="0.11111111111111116 -0.1111111111111111 0.501"
                rpy="0 0 0"/>
        <axis xyz="0 0 1"/>
        
    </joint>


    <!-- body_face_top_2 -->
    <link name="body_face_top_2">
        <inertial>
            <origin xyz="0 0 0" rpy="0 0 0"/>
            <mass value="0"/>
            <inertia ixx="0.05" ixy="0.05" ixz="0.05" iyy="0.05" iyz="0.05" izz="0.05"/>
        </inertial>
        <visual>
            <origin xyz="0 0 0" rpy="0 0 0"/>
            <geometry>
                <box size="0.1111111111111111 0.1111111111111111 0.002"/>
            </geometry>
        </visual>
        <collision>
            <origin xyz="0 0 0" rpy="0 0 0"/>
            <geometry>
                <box size="0.1111111111111111 0.1111111111111111 0.002"/>
            </geometry>
        </collision>
    </link>
    <!-- Joint: body, body_face_top_2 -->
    <joint name="body_body_face_top_2_joint" type="fixed">
        <parent link="body"/>
        <child link="body_face_top_2"/>
        <origin xyz="0.2222222222222222 -0.1111111111111111 0.501"
                rpy="0 0 0"/>
        <axis xyz="0 0 1"/>
        
    </joint>


    <!-- body_face_top_3 -->
    <link name="body_face_top_3">
        <inertial>
            <origin xyz="0 0 0" rpy="0 0 0"/>
            <mass value="0"/>
            <inertia ixx="0.05" ixy="0.05" ixz="0.05" iyy="0.05" iyz="0.05" izz="0.05"/>
        </inertial>
        <visual>
            <origin xyz="0 0 0" rpy="0 0 0"/>
            <geometry>
                <box size="0.1111111111111111 0.1111111111111111 0.002"/>
            </geometry>
        </visual>
        <collision>
            <origin xyz="0 0 0" rpy="0 0 0"/>
            <geometry>
                <box size="0.1111111111111111 0.1111111111111111 0.002"/>
            </geometry>
        </collision>
    </link>
    <!-- Joint: body, body_face_top_3 -->
    <joint name="body_body_face_top_3_joint" type="fixed">
        <parent link="body"/>
        <child link="body_face_top_3"/>
        <origin xyz="-0.33333333333333337 0.0 0.501"
                rpy="0 0 0"/>
        <axis xyz="0 0 1"/>
        
    </joint>


    <!-- body_face_top_4 -->
    <link name="body_face_top_4">
        <inertial>
            <origin xyz="0 0 0" rpy="0 0 0"/>
            <mass value="0"/>
            <inertia ixx="0.05" ixy="0.05" ixz="0.05" iyy="0.05" iyz="0.05" izz="0.05"/>
        </inertial>
        <visual>
            <origin xyz="0 0 0" rpy="0 0 0"/>
            <geometry>
                <box size="0.1111111111111111 0.1111111111111111 0.002"/>
            </geometry>
        </visual>
        <collision>
            <origin xyz="0 0 0" rpy="0 0 0"/>
            <geometry>
                <box size="0.1111111111111111 0.1111111111111111 0.002"/>
            </geometry>
        </collision>
    </link>
    <!-- Joint: body, body_face_top_4 -->
    <joint name="body_body_face_top_4_joint" type="fixed">
        <parent link="body"/>
        <child link="body_face_top_4"/>
        <origin xyz="-0.2222222222222222 0.0 0.501"
                rpy="0 0 0"/>
        <axis xyz="0 0 1"/>
        
    </joint>


    <!-- body_face_top_5 -->
    <link name="body_face_top_5">
        <inertial>
            <origin xyz="0 0 0" rpy="0 0 0"/>
            <mass value="0"/>
            <inertia ixx="0.05" ixy="0.05" ixz="0.05" iyy="0.05" iyz="0.05" izz="0.05"/>
        </inertial>
        <visual>
            <origin xyz="0 0 0" rpy="0 0 0"/>
            <geometry>
                <box size="0.1111111111111111 0.1111111111111111 0.002"/>
            </geometry>
        </visual>
        <collision>
            <origin xyz="0 0 0" rpy="0 0 0"/>
            <geometry>
                <box size="0.1111111111111111 0.1111111111111111 0.002"/>
            </geometry>
        </collision>
    </link>
    <!-- Joint: body, body_face_top_5 -->
    <joint name="body_body_face_top_5_joint" type="fixed">
        <parent link="body"/>
        <child link="body_face_top_5"/>
        <origin xyz="-0.1111111111111111 0.0 0.501"
                rpy="0 0 0"/>
        <axis xyz="0 0 1"/>
        
    </joint>


    <!-- body_face_top_6 -->
    <link name="body_face_top_6">
        <inertial>
            <origin xyz="0 0 0" rpy="0 0 0"/>
            <mass value="0"/>
            <inertia ixx="0.05" ixy="0.05" ixz="0.05" iyy="0.05" iyz="0.05" izz="0.05"/>
        </inertial>
        <visual>
            <origin xyz="0 0 0" rpy="0 0 0"/>
            <geometry>
                <box size="0.1111111111111111 0.1111111111111111 0.002"/>
            </geometry>
        </visual>
        <collision>
            <origin xyz="0 0 0" rpy="0 0 0"/>
            <geometry>
                <box size="0.1111111111111111 0.1111111111111111 0.002"/>
            </geometry>
        </collision>
    </link>
    <!-- Joint: body, body_face_top_6 -->
    <joint name="body_body_face_top_6_joint" type="fixed">
        <parent link="body"/>
        <child link="body_face_top_6"/>
        <origin xyz="0.0 0.0 0.501"
                rpy="0 0 0"/>
        <axis xyz="0 0 1"/>
        
    </joint>


    <!-- body_face_top_7 -->
    <link name="body_face_top_7">
        <inertial>
            <origin xyz="0 0 0" rpy="0 0 0"/>
            <mass value="0"/>
            <inertia ixx="0.05" ixy="0.05" ixz="0.05" iyy="0.05" iyz="0.05" izz="0.05"/>
        </inertial>
        <visual>
            <origin xyz="0 0 0" rpy="0 0 0"/>
            <geometry>
                <box size="0.1111111111111111 0.1111111111111111 0.002"/>
            </geometry>
        </visual>
        <collision>
            <origin xyz="0 0 0" rpy="0 0 0"/>
            <geometry>
                <box size="0.1111111111111111 0.1111111111111111 0.002"/>
            </geometry>
        </collision>
    </link>
    <!-- Joint: body, body_face_top_7 -->
    <joint name="body_body_face_top_7_joint" type="fixed">
        <parent link="body"/>
        <child link="body_face_top_7"/>
        <origin xyz="0.11111111111111116 0.0 0.501"
                rpy="0 0 0"/>
        <axis xyz="0 0 1"/>
        
    </joint>


    <!-- body_face_top_8 -->
    <link name="body_face_top_8">
        <inertial>
            <origin xyz="0 0 0" rpy="0 0 0"/>
            <mass value="0"/>
            <inertia ixx="0.05" ixy="0.05" ixz="0.05" iyy="0.05" iyz="0.05" izz="0.05"/>
        </inertial>
        <visual>
            <origin xyz="0 0 0" rpy="0 0 0"/>
            <geometry>
                <box size="0.1111111111111111 0.1111111111111111 0.002"/>
            </geometry>
        </visual>
        <collision>
            <origin xyz="0 0 0" rpy="0 0 0"/>
            <geometry>
                <box size="0.1111111111111111 0.1111111111111111 0.002"/>
            </geometry>
        </collision>
    </link>
    <!-- Joint: body, body_face_top_8 -->
    <joint name="body_body_face_top_8_joint" type="fixed">
        <parent link="body"/>
        <child link="body_face_top_8"/>
        <origin xyz="0.2222222222222222 0.0 0.501"
                rpy="0 0 0"/>
        <axis xyz="0 0 1"/>
        
    </joint>


    <!-- body_face_top_9 -->
    <link name="body_face_top_9">
        <inertial>
            <origin xyz="0 0 0" rpy="0 0 0"/>
            <mass value="0"/>
            <inertia ixx="0.05" ixy="0.05" ixz="0.05" iyy="0.05" iyz="0.05" izz="0.05"/>
        </inertial>
        <visual>
            <origin xyz="0 0 0" rpy="0 0 0"/>
            <geometry>
                <box size="0.1111111111111111 0.1111111111111111 0.002"/>
            </geometry>
        </visual>
        <collision>
            <origin xyz="0 0 0" rpy="0 0 0"/>
            <geometry>
                <box size="0.1111111111111111 0.1111111111111111 0.002"/>
            </geometry>
        </collision>
    </link>
    <!-- Joint: body, body_face_top_9 -->
    <joint name="body_body_face_top_9_joint" type="fixed">
        <parent link="body"/>
        <child link="body_face_top_9"/>
        <origin xyz="0.33333333333333337 0.0 0.501"
                rpy="0 0 0"/>
        <axis xyz="0 0 1"/>
        
    </joint>


    <!-- body_face_top_10 -->
    <link name="body_face_top_10">
        <inertial>
            <origin xyz="0 0 0" rpy="0 0 0"/>
            <mass value="0"/>
            <inertia ixx="0.05" ixy="0.05" ixz="0.05" iyy="0.05" iyz="0.05" izz="0.05"/>
        </inertial>
        <visual>
            <origin xyz="0 0 0" rpy="0 0 0"/>
            <geometry>
                <box size="0.1111111111111111 0.1111111111111111 0.002"/>
            </geometry>
        </visual>
        <collision>
            <origin xyz="0 0 0" rpy="0 0 0"/>
            <geometry>
                <box size="0.1111111111111111 0.1111111111111111 0.002"/>
            </geometry>
        </collision>
    </link>
    <!-- Joint: body, body_face_top_10 -->
    <joint name="body_body_face_top_10_joint" type="fixed">
        <parent link="body"/>
        <child link="body_face_top_10"/>
        <origin xyz="0.11111111111111116 0.11111111111111116 0.501"
                rpy="0 0 0"/>
        <axis xyz="0 0 1"/>
        
    </joint>


    <!-- body_face_top_11 -->
    <link name="body_face_top_11">
        <inertial>
            <origin xyz="0 0 0" rpy="0 0 0"/>
            <mass value="0"/>
            <inertia ixx="0.05" ixy="0.05" ixz="0.05" iyy="0.05" iyz="0.05" izz="0.05"/>
        </inertial>
        <visual>
            <origin xyz="0 0 0" rpy="0 0 0"/>
            <geometry>
                <box size="0.1111111111111111 0.1111111111111111 0.002"/>
            </geometry>
        </visual>
        <collision>
            <origin xyz="0 0 0" rpy="0 0 0"/>
            <geometry>
                <box size="0.1111111111111111 0.1111111111111111 0.002"/>
            </geometry>
        </collision>
    </link>
    <!-- Joint: body, body_face_top_11 -->
    <joint name="body_body_face_top_11_joint" type="fixed">
        <parent link="body"/>
        <child link="body_face_top_11"/>
        <origin xyz="0.2222222222222222 0.11111111111111116 0.501"
                rpy="0 0 0"/>
        <axis xyz="0 0 1"/>
        
    </joint>


    <!-- body_face_top_12 -->
    <link name="body_face_top_12">
        <inertial>
            <origin xyz="0 0 0" rpy="0 0 0"/>
            <mass value="0"/>
            <inertia ixx="0.05" ixy="0.05" ixz="0.05" iyy="0.05" iyz="0.05" izz="0.05"/>
        </inertial>
        <visual>
            <origin xyz="0 0 0" rpy="0 0 0"/>
            <geometry>
                <box size="0.1111111111111111 0.1111111111111111 0.002"/>
            </geometry>
        </visual>
        <collision>
            <origin xyz="0 0 0" rpy="0 0 0"/>
            <geometry>
                <box size="0.1111111111111111 0.1111111111111111 0.002"/>
            </geometry>
        </collision>
    </link>
    <!-- Joint: body, body_face_top_12 -->
    <joint name="body_body_face_top_12_joint" type="fixed">
        <parent link="body"/>
        <child link="body_face_top_12"/>
        <origin xyz="0.11111111111111116 0.2222222222222222 0.501"
                rpy="0 0 0"/>
        <axis xyz="0 0 1"/>
        
    </joint>


</robot>
